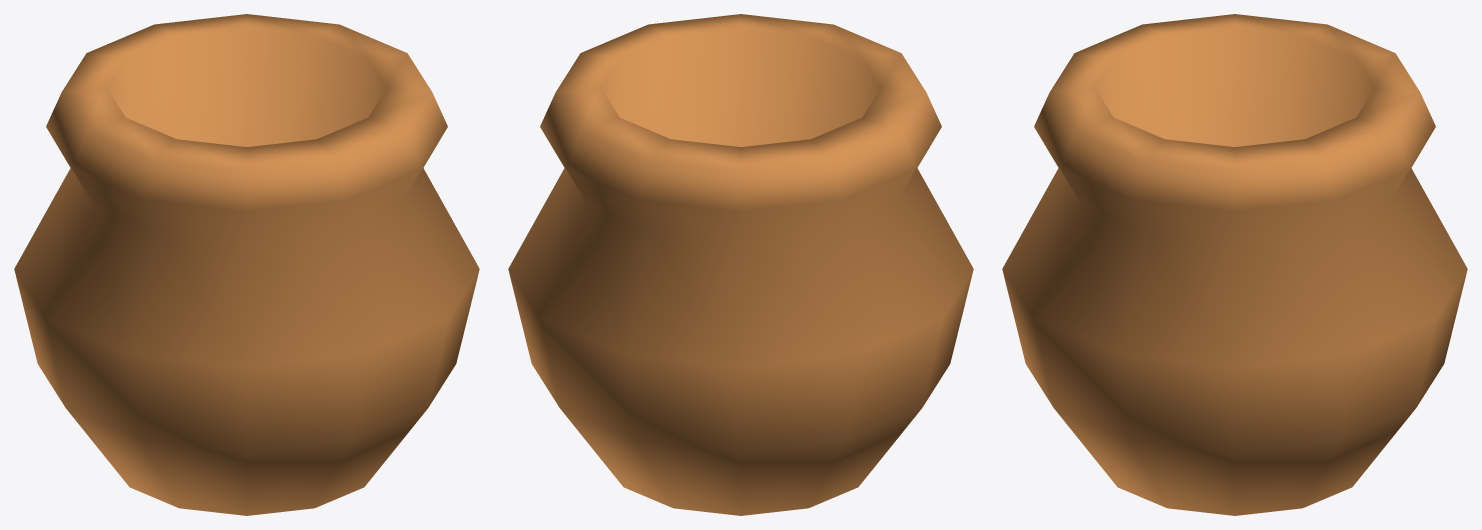
File: SmallPot.fbx
3 views of the same model, side by side, from view 1: azimuth 30°, elevation 25°; view 2: azimuth 150°, elevation 25°; view 3: azimuth 270°, elevation 25° (orthographic).
Parts seen in each view (by area): view 1: Junk_Pot; view 2: Junk_Pot; view 3: Junk_Pot.
Part boxes in pixels (left/top/right/bottom): Junk_Pot: left=14, top=14, right=479, bottom=515; Junk_Pot: left=508, top=14, right=973, bottom=515; Junk_Pot: left=1002, top=14, right=1467, bottom=515.
Size of the model in its own units: 1.62 by 1.42 by 1.62.
